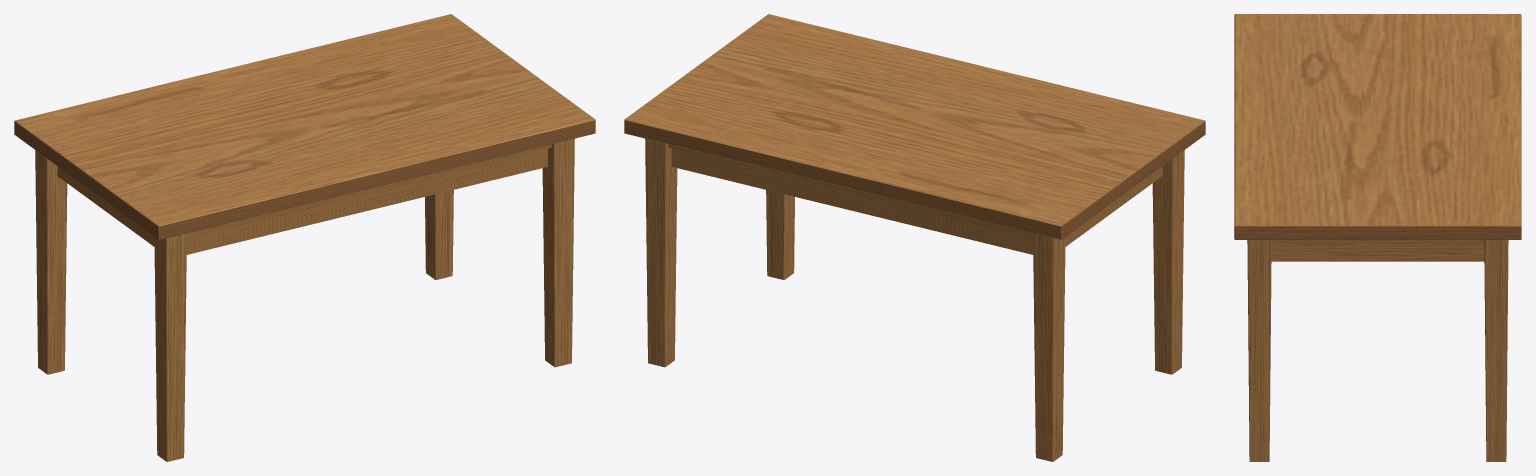
File: table.glb
3 views of the same model, side by side, from view 1: azimuth 30°, elevation 25°; view 2: azimuth 150°, elevation 25°; view 3: azimuth 270°, elevation 25° (orthographic).
Parts seen in each view (by area): view 1: core_table; view 2: core_table; view 3: core_table.
Boxes of the visible parts, box(x1,y1,x2,y2) form: core_table: box(14, 14, 595, 461); core_table: box(624, 14, 1205, 461); core_table: box(1234, 14, 1521, 461).
Bounding box in the file's own units: 1.4 × 0.75 × 0.8.
Materials: 1 (1 with a texture image).
